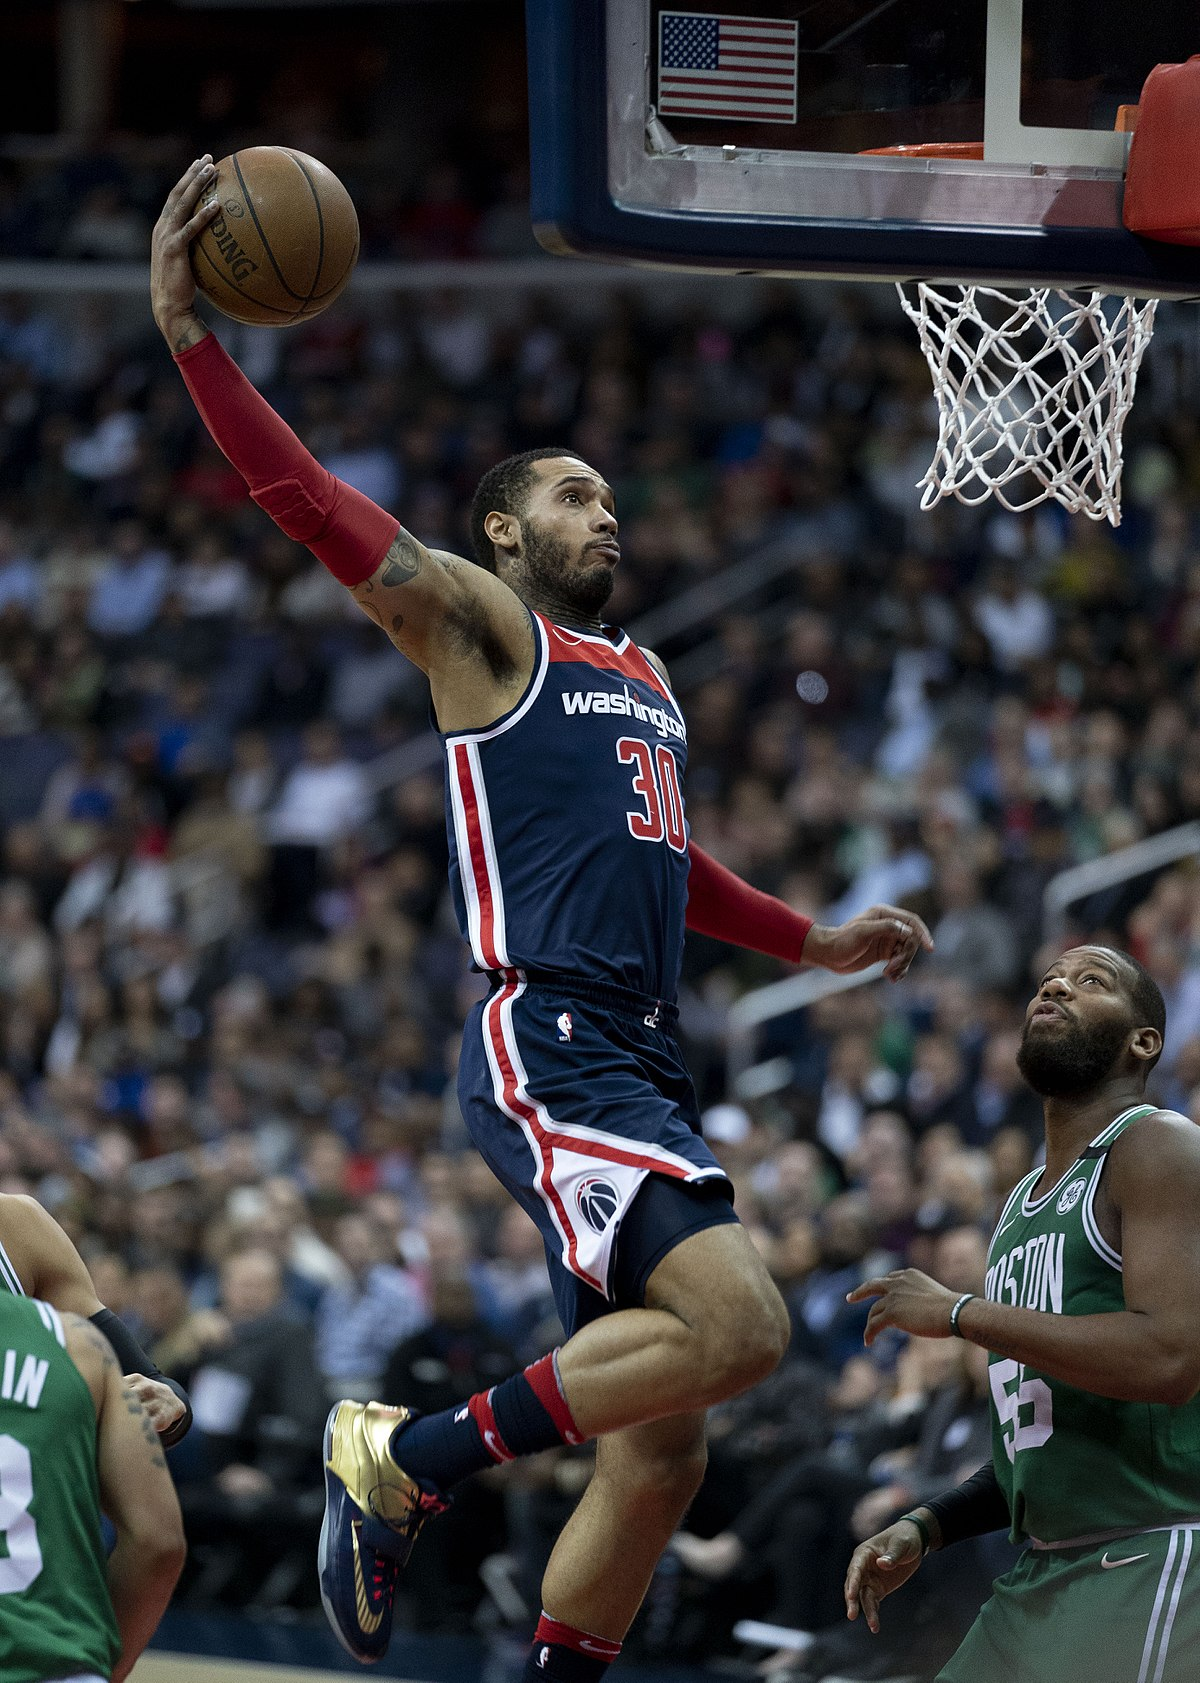dunk: (64, 88, 897, 1683)
